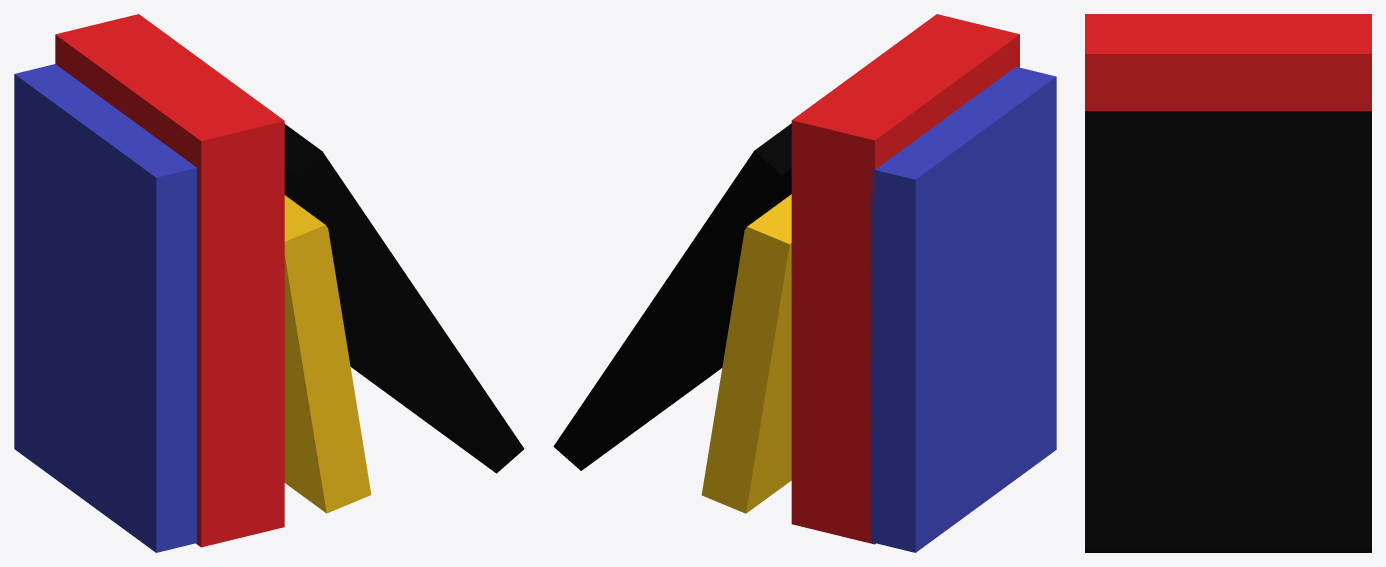
Rendered from books.fbx.
The picture shows the model from 3 angles, left to right: view 1: azimuth 30°, elevation 25°; view 2: azimuth 150°, elevation 25°; view 3: azimuth 270°, elevation 25°; orthographic projection.
Parts seen in each view (by area): view 1: root (×4); view 2: root (×4); view 3: root (×2).
Part boxes in pixels (<box>): root (×4): <box>14,14,524,552</box>; root (×4): <box>553,14,1056,552</box>; root (×2): <box>1085,14,1371,552</box>.
Bounding box in the file's own units: 0.2303 × 0.2459 × 0.1598.
Materials: 4 (3 with a texture image).
